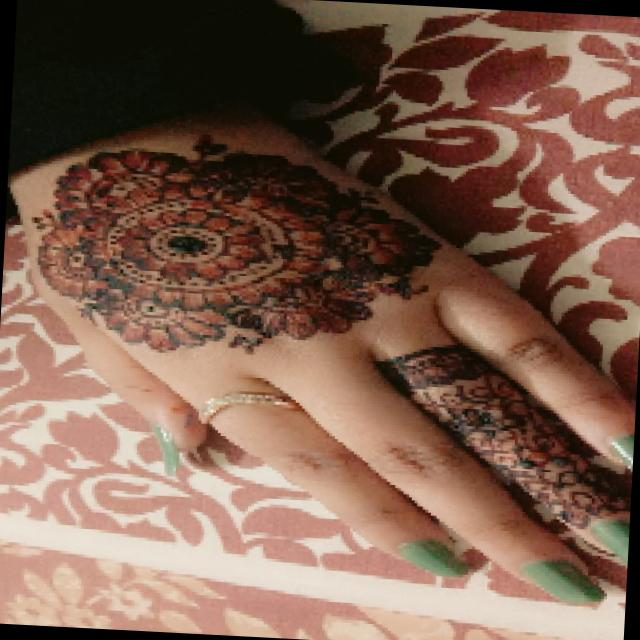Nail: (520, 559, 605, 603), (398, 539, 467, 576), (592, 518, 630, 564), (152, 424, 179, 475), (611, 434, 634, 469)
